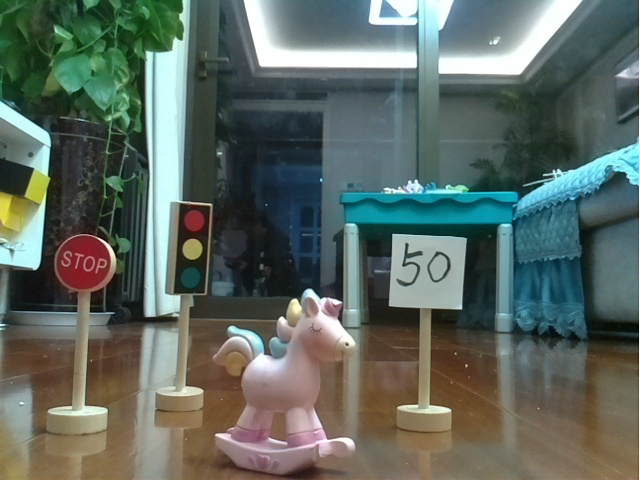Horse: (219, 287, 365, 475)
Red Traffic Light: (153, 187, 215, 416)
Speed Limit 50: (383, 224, 477, 436)
Stop Sign: (44, 229, 120, 438)
